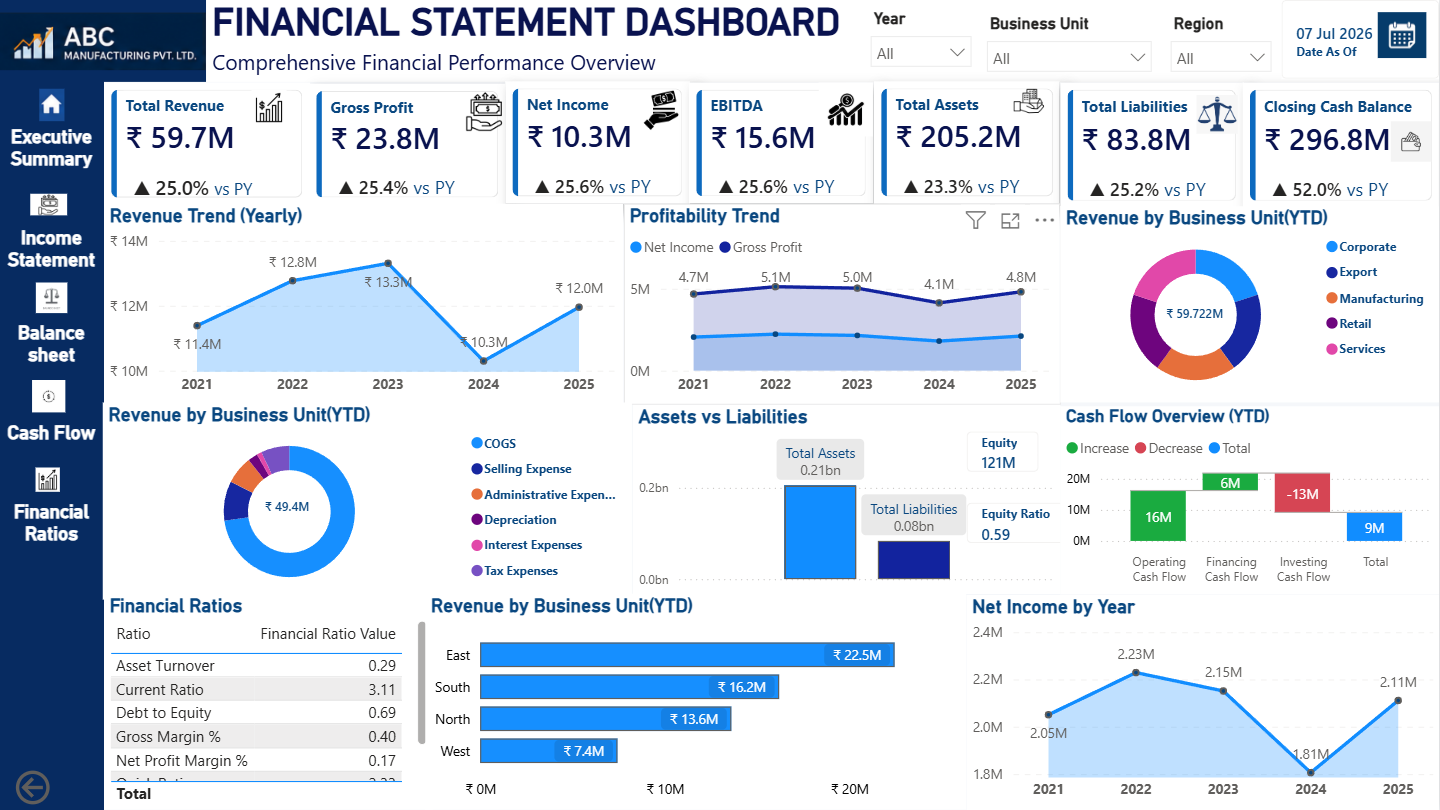

The page's visual inventory and layout, read from the dashboard file:
{"tool":"powerbi","page":{"name":"Executive Summary","canvas":[1280,720],"ordinal":0},"visuals":[{"type":"shape","box":[0,0,93.3,720],"z":0},{"type":"actionButton","title":"Executive Summary","box":[0,111.1,93.3,47.8],"z":0,"group":"g2"},{"type":"shape","box":[0,0,184.3,72.9],"z":1000},{"type":"actionButton","title":"Income Statement","box":[0,200,93.3,50],"z":1000,"group":"g2"},{"type":"image","box":[0,0,184.3,72.9],"z":2000},{"type":"actionButton","title":"Balance sheet","box":[0,284.4,93.3,42.2],"z":2000,"group":"g2"},{"type":"textbox","title":"FINANCIAL STATEMENT DASHBOARD","box":[184.3,0,1095.7,72.9],"z":3000},{"type":"actionButton","title":"Cash Flow","box":[0,373.3,93.3,27.8],"z":3000,"group":"g2"},{"type":"slicer","fields":{"Values":["Calendar.Year"]},"box":[764.3,2.9,110,72.9],"z":4000,"group":"g1"},{"type":"image","box":[27.5,78.3,38.3,29.2],"z":4000,"group":"g2"},{"type":"actionButton","box":[10,680,100,40],"z":4000},{"type":"group","id":"g1","title":"Group 1","box":[764.3,2.9,375.7,75.7],"z":5000},{"type":"slicer","fields":{"Values":["Balance_Sheet.Business Unit"]},"box":[867.6,7.2,167.1,71.4],"z":5000,"group":"g1"},{"type":"image","box":[27.5,171.6,32.5,19.2],"z":5000,"group":"g2"},{"type":"cardVisual","fields":{"Data":["Income_Statement.Total Gross Profit"]},"box":[275.7,74.3,174.3,107.1],"z":6000},{"type":"image","box":[25,250,42.5,27.5],"z":6000,"group":"g2"},{"type":"slicer","fields":{"Values":["Balance_Sheet.Region"]},"box":[1030.4,7.2,110,71.4],"z":7000,"group":"g1"},{"type":"cardVisual","fields":{"Data":["Income_Statement.Net Income"]},"box":[450,72.5,163.8,108.8],"z":7000},{"type":"image","box":[27.5,337.5,32.5,29.2],"z":7000,"group":"g2"},{"type":"cardVisual","fields":{"Data":["Income_Statement.EBITDA"]},"box":[613.8,73.8,163.8,107.5],"z":8000},{"type":"image","box":[18.3,415,49.2,21.7],"z":8000,"group":"g2"},{"type":"cardVisual","fields":{"Data":["Balance_Sheet.Total Assets"]},"box":[777.5,72.5,165,108.8],"z":9000},{"type":"cardVisual","fields":{"Data":["Balance_Sheet.Total Liabilities"]},"box":[942.9,72.9,162.9,111.4],"z":10000},{"type":"cardVisual","fields":{"Data":["Cash_Flow.Closing Cash Balance"]},"box":[1105.7,72.9,174.3,111.4],"z":11000},{"type":"cardVisual","fields":{"Data":["Income_Statement.Total Revenue"]},"box":[92.9,72.9,182.9,108.6],"z":12000},{"type":"image","box":[204.3,80,71.4,31.4],"z":13000},{"type":"image","box":[413.6,72.8,35.8,51.9],"z":14000},{"type":"image","box":[563,80.2,50.6,35.8],"z":15000},{"type":"image","box":[711.1,72.8,82.7,48.1],"z":16000},{"type":"image","box":[897.7,52.3,34.9,75.6],"z":17000},{"type":"image","box":[1064.2,59.3,37,85.2],"z":18000},{"type":"image","box":[1229.6,107.4,50.6,35.8],"z":19000},{"type":"lineChart","title":"Revenue Trend (Yearly)","fields":{"Y":["Income_Statement.Total Revenue"],"Category":["Calendar.Month-Year.Variation.Date Hierarchy.Year"]},"box":[92.9,181.4,461.4,178.6],"z":20000},{"type":"lineChart","title":"Profitability Trend","fields":{"Y":["Income_Statement.Net Income","Income_Statement.Total Gross Profit"],"Category":["Calendar.Month-Year.Variation.Date Hierarchy.Year"]},"box":[555.7,181.4,387.1,178.6],"z":21000},{"type":"donutChart","title":"Revenue by Business Unit(YTD)","fields":{"Category":["Balance_Sheet.Business Unit"],"Y":["Income_Statement.Total Revenue"]},"box":[942.9,183.7,337.1,174.3],"z":22000},{"type":"cardVisual","fields":{"Data":["Income_Statement.Total Revenue"]},"box":[1025.7,250,78.6,55.7],"z":23000},{"type":"donutChart","title":"Revenue by Business Unit(YTD)","fields":{"Y":["Income_Statement.COGS","Balance_Sheet.Selling Expense","Expense Category.Administrative Expense","Expense Category.Depreciation","Income_Statement.Interest Expenses","Balance_Sheet.Tax Expenses"]},"box":[92.5,357.5,470,175],"z":24000},{"type":"cardVisual","fields":{"Data":["Balance_Sheet.Total Expenses"]},"box":[224.5,430,65.5,37.3],"z":25000},{"type":"clusteredColumnChart","title":"Assets vs Liabilities","fields":{"Y":["Balance_Sheet.Total Assets","Balance_Sheet.Total Liabilities"]},"box":[563,360,380,168],"z":26000},{"type":"cardVisual","fields":{"Data":["Balance_Sheet.Equity"]},"box":[843.1,366.2,98.1,70],"z":27000},{"type":"cardVisual","fields":{"Data":["Balance_Sheet.Equity Ratio"]},"box":[843.1,430,133.8,70],"z":28000},{"type":"waterfallChart","title":"Cash Flow Overview (YTD)","fields":{"Category":["Cash Flow Category.Category"],"Y":["Cash Flow Category.Cash Flow Amount"]},"box":[943.1,360.8,336.9,166.9],"z":29000},{"type":"tableEx","title":"Financial Ratios","fields":{"Values":["Financial Ratios.Ratio","Financial Ratios.Financial Ratio Value"]},"box":[93,528,292,192],"z":30000},{"type":"clusteredBarChart","title":"Revenue by Business Unit(YTD)","fields":{"Category":["Income_Statement.Region"],"Y":["Income_Statement.Total Revenue"]},"box":[379,528,481,192],"z":31000},{"type":"lineChart","fields":{"Category":["Calendar.Month-Year.Variation.Date Hierarchy.Year"],"Y":["Income_Statement.Net Income"]},"box":[860,528.6,420,191.4],"z":32000},{"type":"actionButton","title":"Financial Ratios","box":[0,444.4,93.3,43.3],"z":33000},{"type":"group","id":"g2","title":"Group 2","box":[0,78.3,93.3,358.3],"z":34000},{"type":"cardVisual","fields":{"Data":["Balance_Sheet.Date As Of"]},"box":[1140,0,140,70],"z":34001},{"type":"image","box":[1225,10,43.3,41.7],"z":34002}]}

Visuals, with their boxes in screenshot pixels (x1, y1, x2, y2), scaled from the page's 1280x720 canvas onto the 1440x810 screenshot:
shape: <region>0, 0, 105, 809</region>
"Executive Summary" actionButton: <region>0, 125, 105, 179</region>
shape: <region>0, 0, 207, 82</region>
"Income Statement" actionButton: <region>0, 225, 105, 281</region>
image: <region>0, 0, 207, 82</region>
"Balance sheet" actionButton: <region>0, 320, 105, 367</region>
"FINANCIAL STATEMENT DASHBOARD" textbox: <region>207, 0, 1439, 82</region>
"Cash Flow" actionButton: <region>0, 420, 105, 451</region>
slicer - Calendar.Year: <region>860, 3, 984, 85</region>
image: <region>31, 88, 74, 121</region>
actionButton: <region>11, 765, 124, 809</region>
"Group 1" group: <region>860, 3, 1282, 88</region>
slicer - Balance_Sheet.Business Unit: <region>976, 8, 1164, 88</region>
image: <region>31, 193, 68, 215</region>
cardVisual - Income_Statement.Total Gross Profit: <region>310, 84, 506, 204</region>
image: <region>28, 281, 76, 312</region>
slicer - Balance_Sheet.Region: <region>1159, 8, 1283, 88</region>
cardVisual - Income_Statement.Net Income: <region>506, 82, 691, 204</region>
image: <region>31, 380, 68, 413</region>
cardVisual - Income_Statement.EBITDA: <region>691, 83, 875, 204</region>
image: <region>21, 467, 76, 491</region>
cardVisual - Balance_Sheet.Total Assets: <region>875, 82, 1060, 204</region>
cardVisual - Balance_Sheet.Total Liabilities: <region>1061, 82, 1244, 207</region>
cardVisual - Cash_Flow.Closing Cash Balance: <region>1244, 82, 1439, 207</region>
cardVisual - Income_Statement.Total Revenue: <region>105, 82, 310, 204</region>
image: <region>230, 90, 310, 125</region>
image: <region>465, 82, 506, 140</region>
image: <region>633, 90, 690, 130</region>
image: <region>800, 82, 893, 136</region>
image: <region>1010, 59, 1049, 144</region>
image: <region>1197, 67, 1239, 163</region>
image: <region>1383, 121, 1439, 161</region>
"Revenue Trend (Yearly)" lineChart: <region>105, 204, 624, 405</region>
"Profitability Trend" lineChart: <region>625, 204, 1061, 405</region>
"Revenue by Business Unit(YTD)" donutChart: <region>1061, 207, 1439, 403</region>
cardVisual - Income_Statement.Total Revenue: <region>1154, 281, 1242, 344</region>
"Revenue by Business Unit(YTD)" donutChart: <region>104, 402, 633, 599</region>
cardVisual - Balance_Sheet.Total Expenses: <region>253, 484, 326, 526</region>
"Assets vs Liabilities" clusteredColumnChart: <region>633, 405, 1061, 594</region>
cardVisual - Balance_Sheet.Equity: <region>948, 412, 1059, 491</region>
cardVisual - Balance_Sheet.Equity Ratio: <region>948, 484, 1099, 562</region>
"Cash Flow Overview (YTD)" waterfallChart: <region>1061, 406, 1439, 594</region>
"Financial Ratios" tableEx: <region>105, 594, 433, 809</region>
"Revenue by Business Unit(YTD)" clusteredBarChart: <region>426, 594, 968, 809</region>
lineChart - Calendar.Month-Year.Variation.Date Hierarchy.Year x Income_Statement.Net Income: <region>968, 595, 1439, 809</region>
"Financial Ratios" actionButton: <region>0, 500, 105, 549</region>
"Group 2" group: <region>0, 88, 105, 491</region>
cardVisual - Balance_Sheet.Date As Of: <region>1282, 0, 1439, 79</region>
image: <region>1378, 11, 1427, 58</region>
